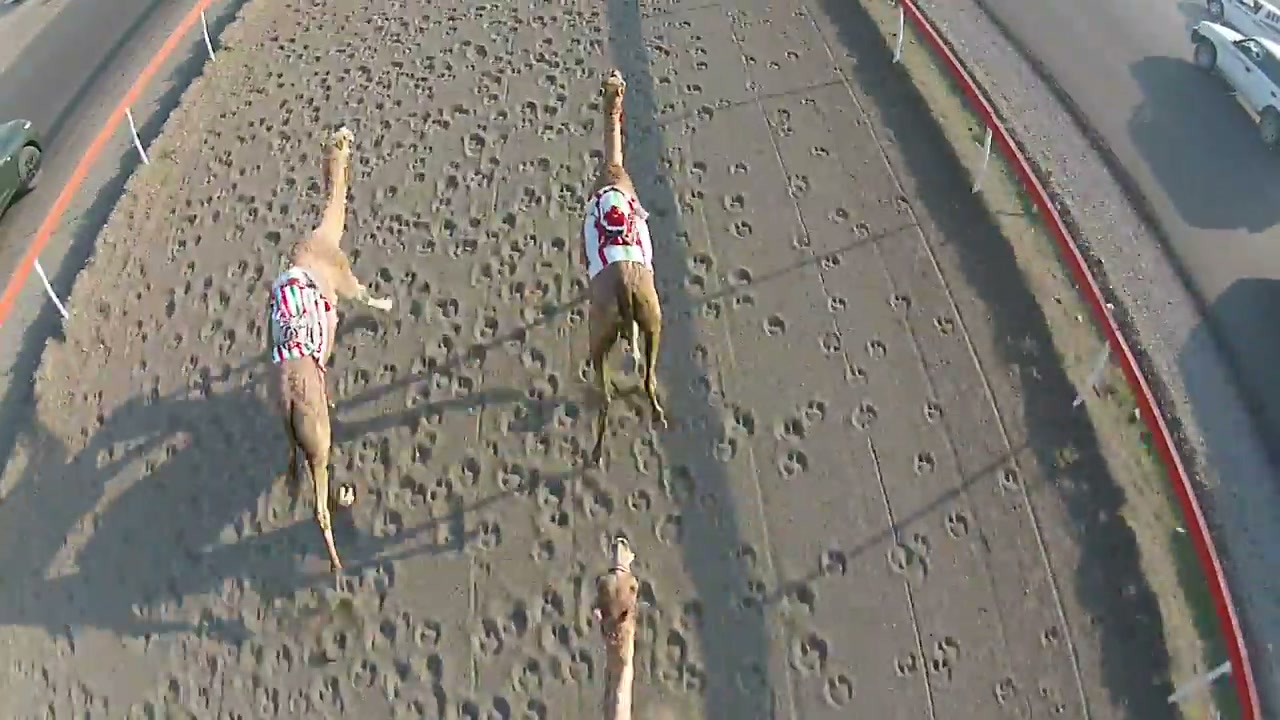animal_footprint: (268, 20, 611, 719), (657, 53, 991, 684), (98, 49, 373, 698), (446, 15, 595, 87)
